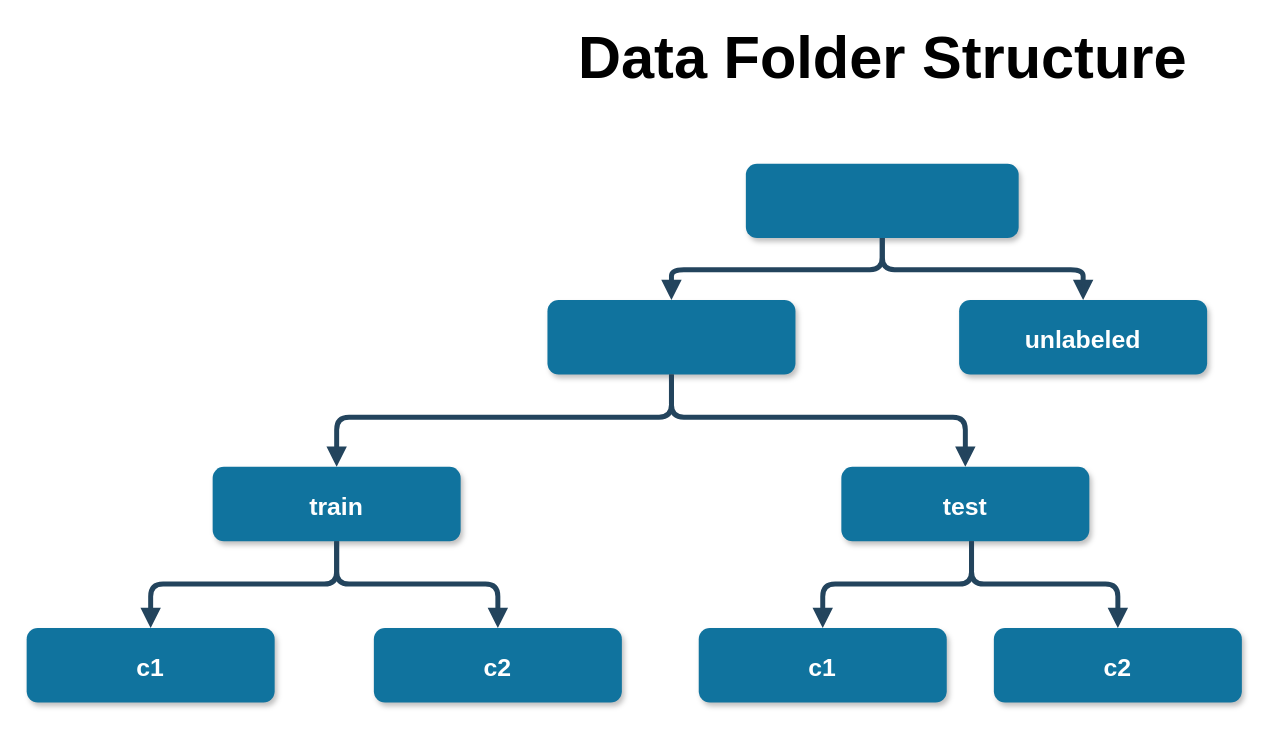
Image size: 1270x732. Some labels were removed from this diagram. The shapes that lost their labels are listed below. From the top down, each one's centre as x and y in pixels, then its label:
At point 882,202: "custom_data".
At point 672,338: "labeled".
